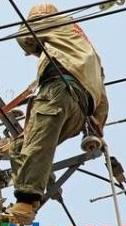boots: (1, 201, 37, 226)
gloves: (0, 110, 16, 140)
hard-hat: (0, 58, 18, 83)
vest: (0, 73, 63, 157)
